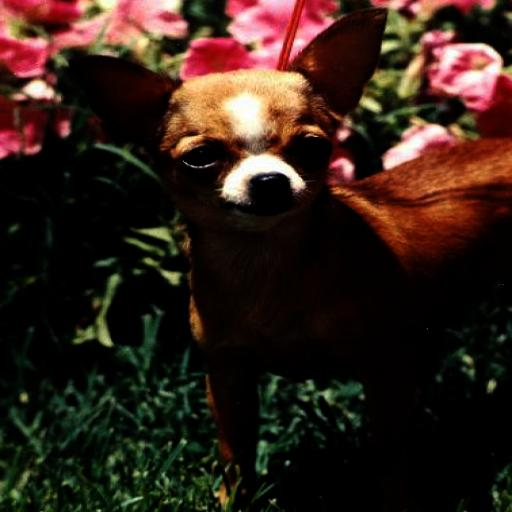dog_face: (79, 28, 391, 218)
